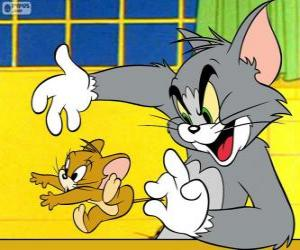jerry: (27, 137, 166, 234)
